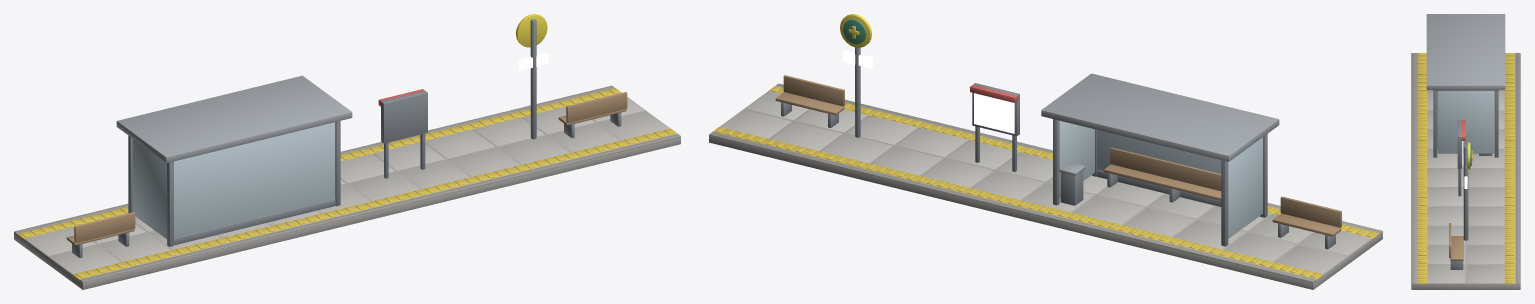
File: th17_tramhaltestelle.glb
3 views of the same model, side by side, from view 1: azimuth 30°, elevation 25°; view 2: azimuth 150°, elevation 25°; view 3: azimuth 270°, elevation 25° (orthographic). The views are drawn at different scales.
Parts seen in each view (by area): view 1: Cube.153, Cube.157, Cube, Cube.025, Cube.154, Cube.026, Cube.169, Cube.088, Cube.156, Cube.087, Cube.018, Cube.017 (+19 smaller); view 2: Cube.157, Cube, Cube.087, Cube.154, Cube.088, Cube.153, Cube.161, Cube.155, Cube.170, Cube.017, Cube.016, Cube.002 (+33 smaller); view 3: Cube.157, Cube.155, Cube, Cube.026, Cube.088, Cube.025, Cube.087, Cube.024, Cube.022, Cube.020, Cube.016, Cube.018 (+25 smaller).
Part boxes in pixels (x1,y1,x2,y2): Cube.153: [174, 122, 335, 238]; Cube.157: [116, 75, 352, 163]; Cube: [14, 87, 680, 289]; Cube.025: [80, 134, 680, 282]; Cube.154: [132, 139, 166, 238]; Cube.026: [73, 128, 676, 279]; Cube.169: [381, 91, 427, 143]; Cube.088: [17, 88, 621, 238]; Cube.156: [174, 199, 335, 245]; Cube.087: [14, 85, 614, 234]; Cube.018: [425, 129, 494, 158]; Cube.017: [449, 148, 519, 176]; Cube.157: [1041, 73, 1279, 161]; Cube: [709, 85, 1382, 289]; Cube.087: [709, 132, 1315, 282]; Cube.154: [1228, 137, 1262, 238]; Cube.088: [712, 127, 1323, 279]; Cube.153: [1097, 130, 1221, 173]; Cube.161: [1110, 147, 1221, 190]; Cube.155: [1059, 121, 1094, 197]; Cube.170: [974, 93, 1014, 133]; Cube.017: [897, 128, 968, 157]; Cube.016: [922, 159, 993, 187]; Cube.002: [1275, 245, 1346, 273]; Cube.157: [1426, 14, 1505, 90]; Cube.155: [1437, 90, 1494, 153]; Cube: [1411, 53, 1520, 289]; Cube.026: [1417, 53, 1427, 283]; Cube.088: [1504, 53, 1514, 283]; Cube.025: [1411, 53, 1415, 284]; Cube.087: [1516, 53, 1520, 284]; Cube.024: [1467, 264, 1504, 283]; Cube.022: [1467, 245, 1504, 263]; Cube.020: [1467, 226, 1504, 244]; Cube.016: [1468, 188, 1504, 206]; Cube.018: [1468, 207, 1504, 225].
Size of the model in its own units: 18 by 3.75 by 3.6.
